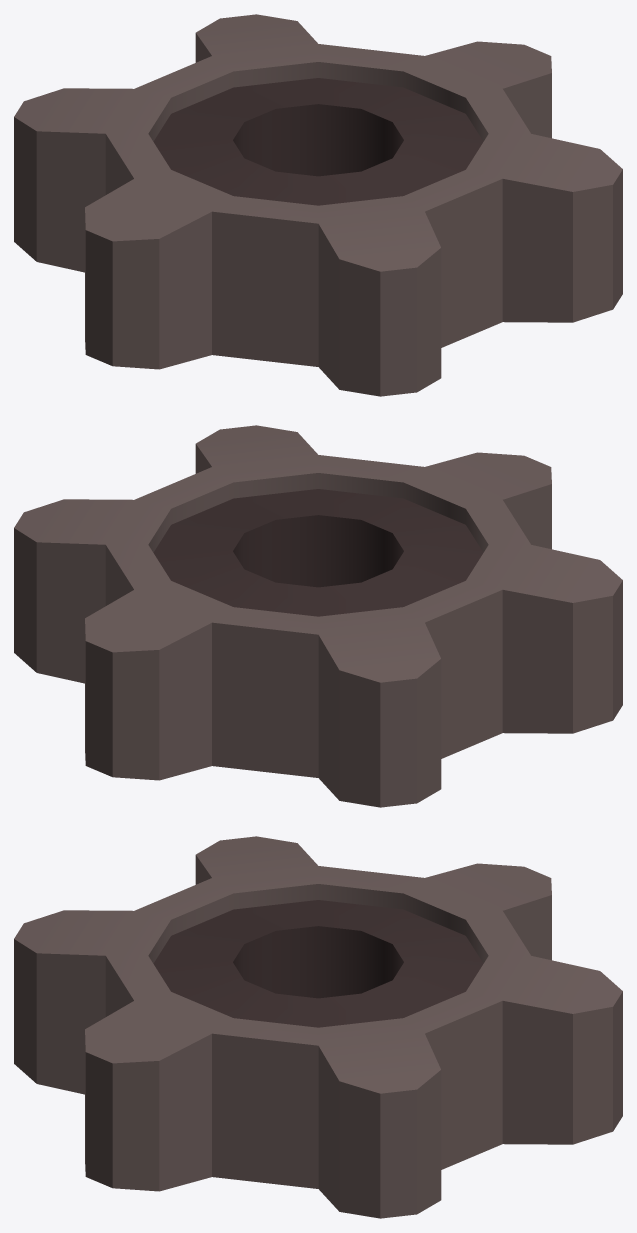
The model's file is Cog3.fbx.
The picture shows the model from 3 angles, top to bottom: view 1: azimuth 30°, elevation 25°; view 2: azimuth 150°, elevation 25°; view 3: azimuth 270°, elevation 25°; orthographic projection.
Visible parts, largest first — view 1: Cog3; view 2: Cog3; view 3: Cog3.
Part boxes in pixels (x1=…): Cog3: x1=14, y1=14, x2=622, y2=396; Cog3: x1=14, y1=425, x2=622, y2=807; Cog3: x1=14, y1=836, x2=622, y2=1218.
Bounding box in the file's own units: 107 × 27.71 × 107.
Materials: 1 (1 with a texture image).
